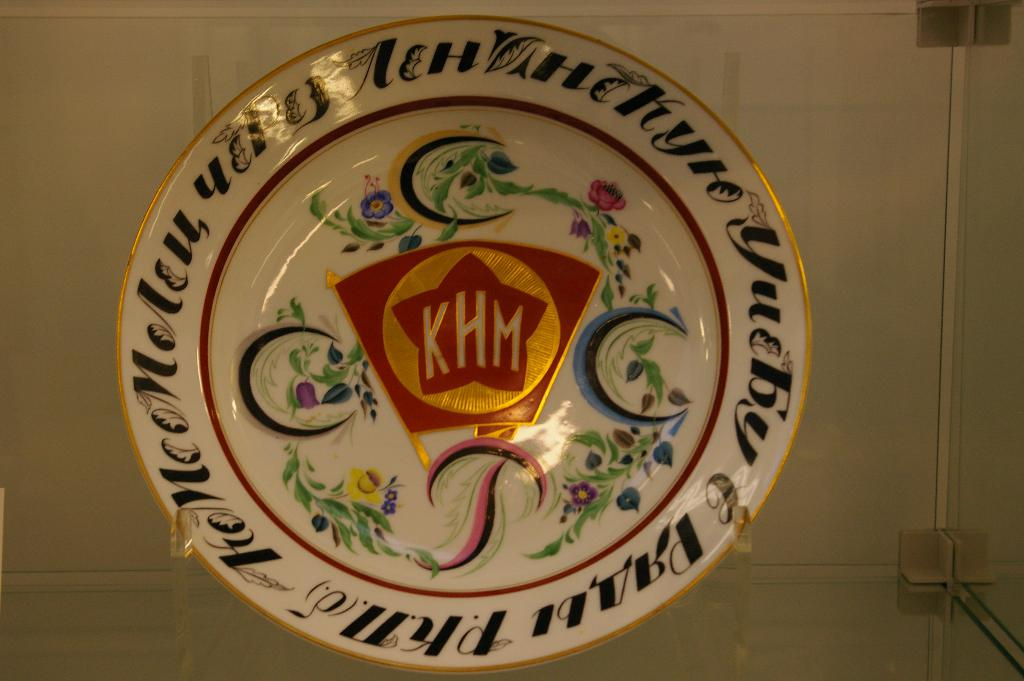plate: (110, 10, 823, 675)
